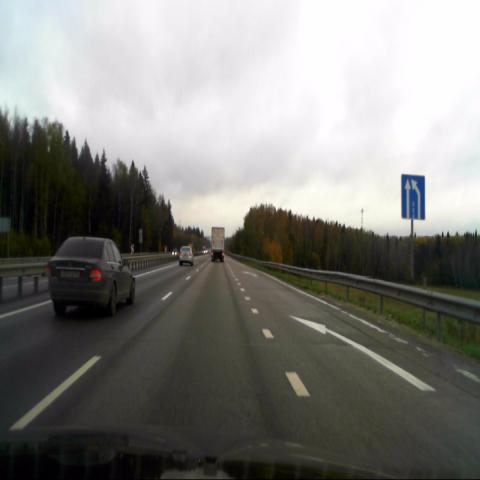5_15_5: (400, 174, 426, 221)
